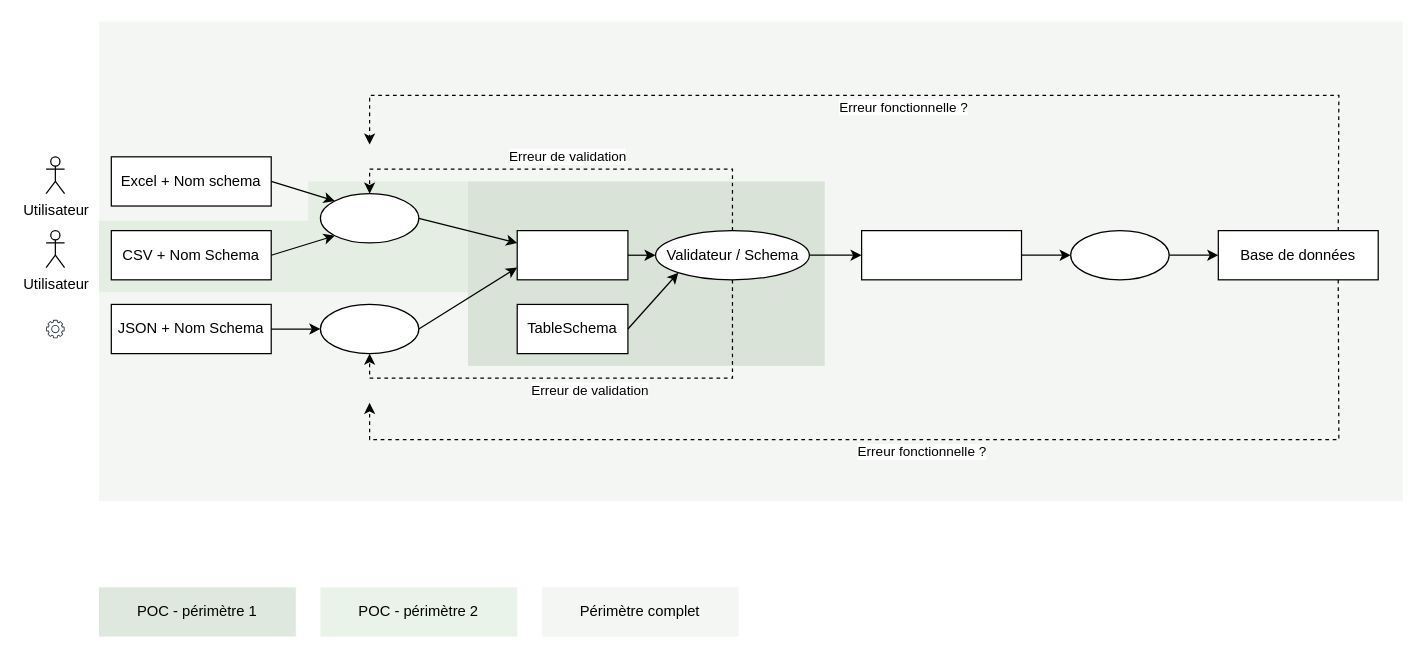
This 1424x657 diagram has some shape labels left out. Here are the shapes that lost their labels. From the top down, the centre of each, then its label:
At [369,217]: "UI d'import".
At [572,254]: "CSV".
At [941,254]: "CSV valide".
At [1119,254]: "API Interne".
At [55,328]: "SI Externe".
At [369,328]: "API Externe".
